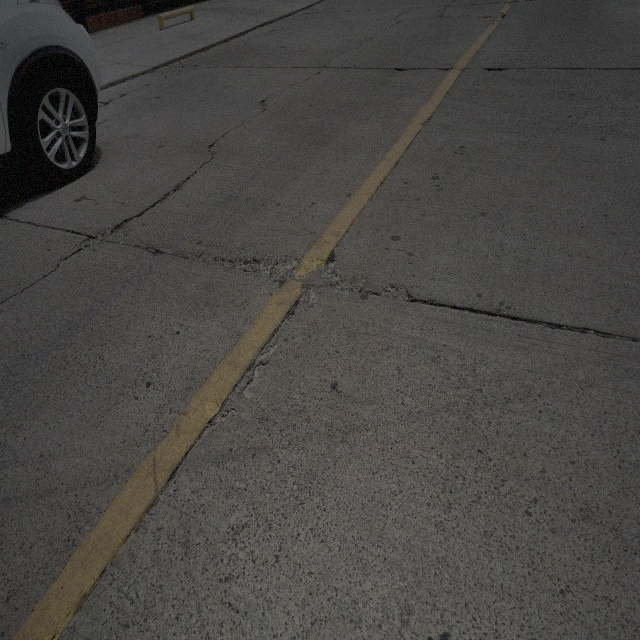pothole: (303, 242, 350, 295), (242, 354, 271, 400), (254, 252, 298, 282), (382, 278, 410, 294)
